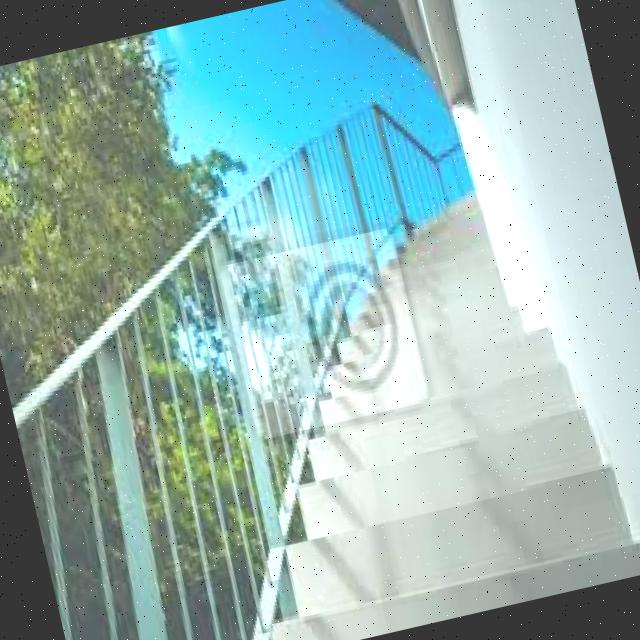stairs: (156, 171, 640, 640)
